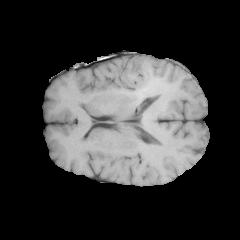glioma: (77, 56, 178, 118)
